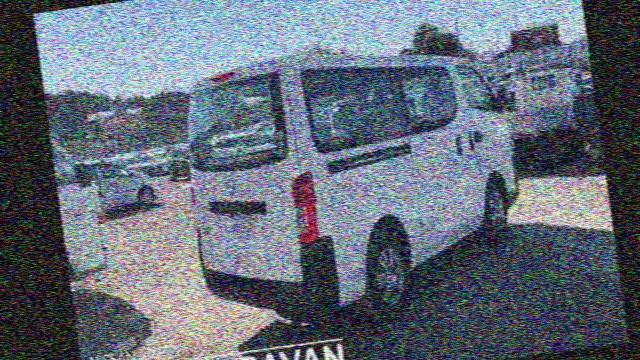van: (169, 24, 534, 336)
